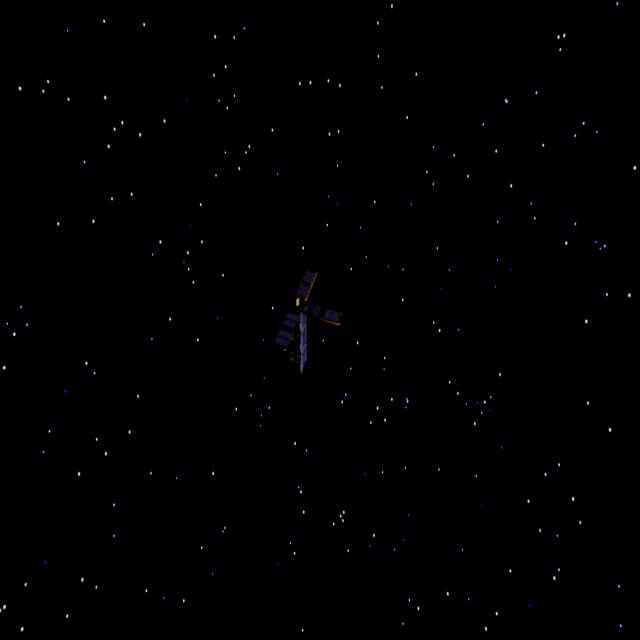medium_debris: (266, 265, 348, 383)
